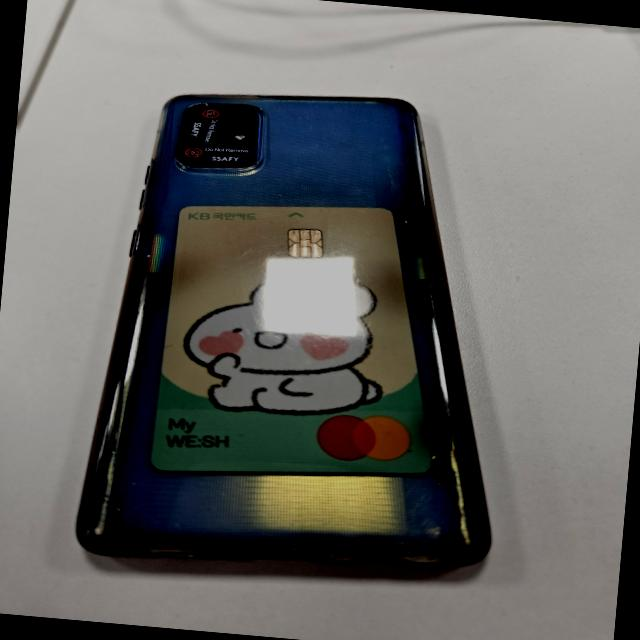phone: (62, 74, 525, 593)
sticker: (174, 136, 260, 172), (171, 101, 223, 150)
